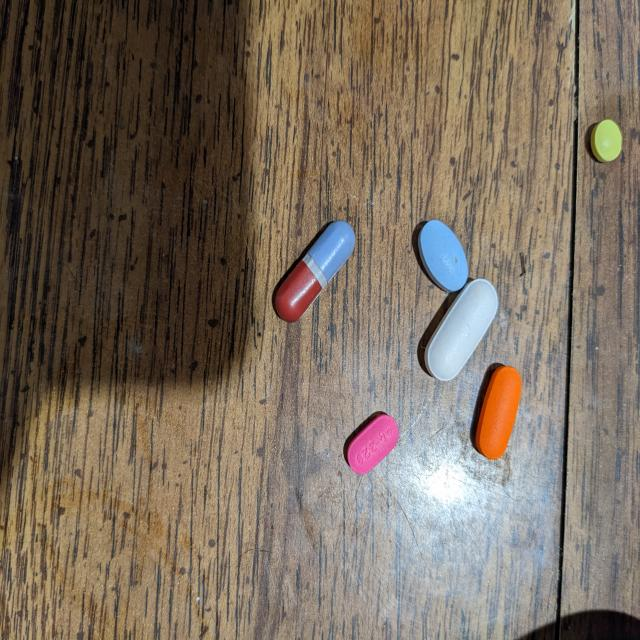non-organic waste: (274, 219, 356, 323), (423, 277, 499, 382), (474, 364, 522, 461), (417, 218, 469, 294), (346, 413, 400, 475), (589, 118, 623, 164)
